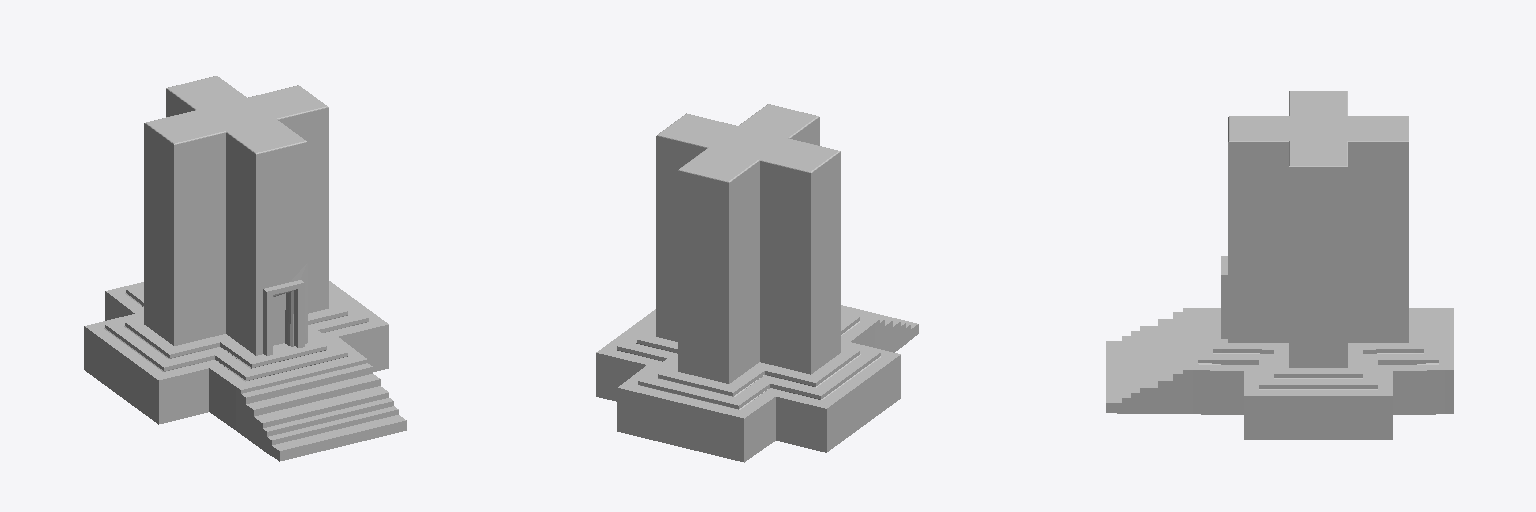
Rendered from lalibelaa(2).obj.
3 renders of one model, left to right at view 1: azimuth 30°, elevation 25°; view 2: azimuth 150°, elevation 25°; view 3: azimuth 270°, elevation 25°, orthographic.
Visible parts, largest first — view 1: Cube, Cube.001, Cube.002; view 2: Cube, Cube.001; view 3: Cube, Cube.001, Cube.002.
Boxes of the visible parts, box(x1,y1,x2,y2) form: Cube: box(84, 76, 388, 433); Cube.001: box(241, 363, 406, 461); Cube.002: box(263, 280, 304, 355); Cube: box(596, 104, 900, 462); Cube.001: box(841, 305, 918, 352); Cube: box(1183, 91, 1453, 439); Cube.001: box(1106, 312, 1182, 413); Cube.002: box(1221, 256, 1227, 338).
Bounding box in the file's own units: 8.94 × 9.45 × 11.71.